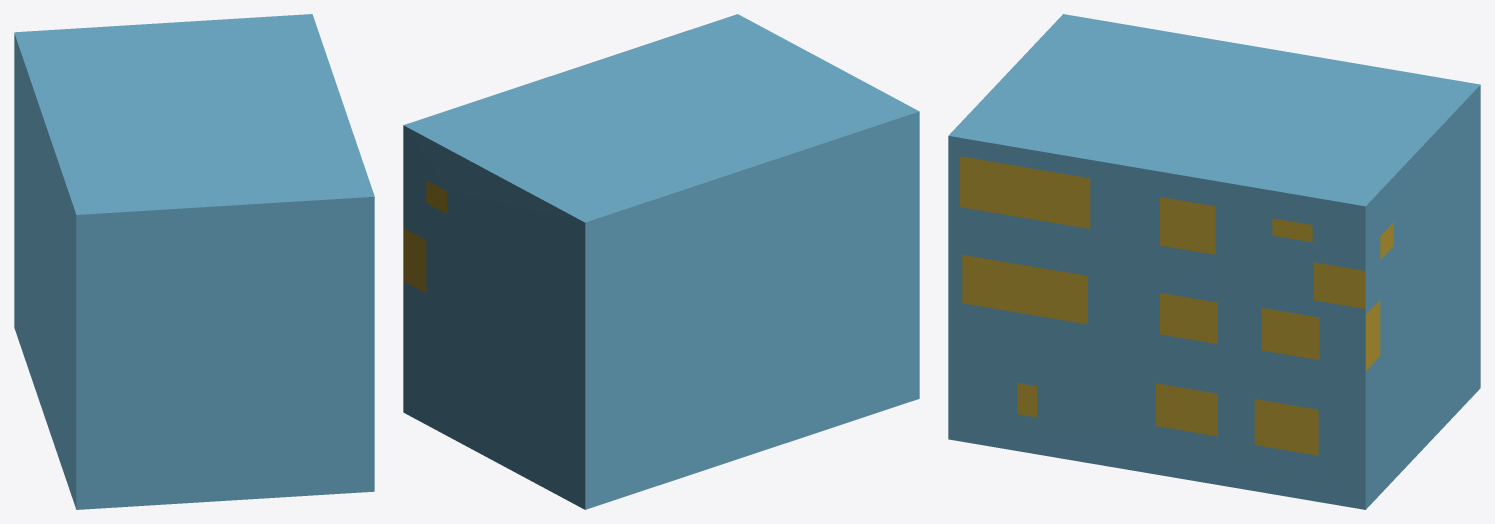
The model's file is bldg_21b6693d-0c0c-46bb-9b10-0581efa7e0ff.obj.
3 renders of one model, left to right at view 1: azimuth 30°, elevation 25°; view 2: azimuth 150°, elevation 25°; view 3: azimuth 270°, elevation 25°, orthographic. The views are drawn at different scales.
Bounding box in the file's own units: 11.94 × 8.79 × 13.96.
